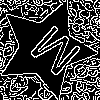M: (21, 23, 84, 86)
